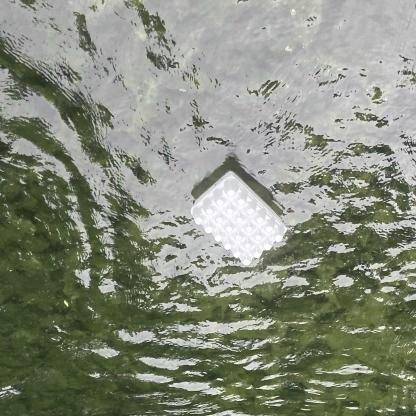Plastic: (188, 167, 290, 277)
